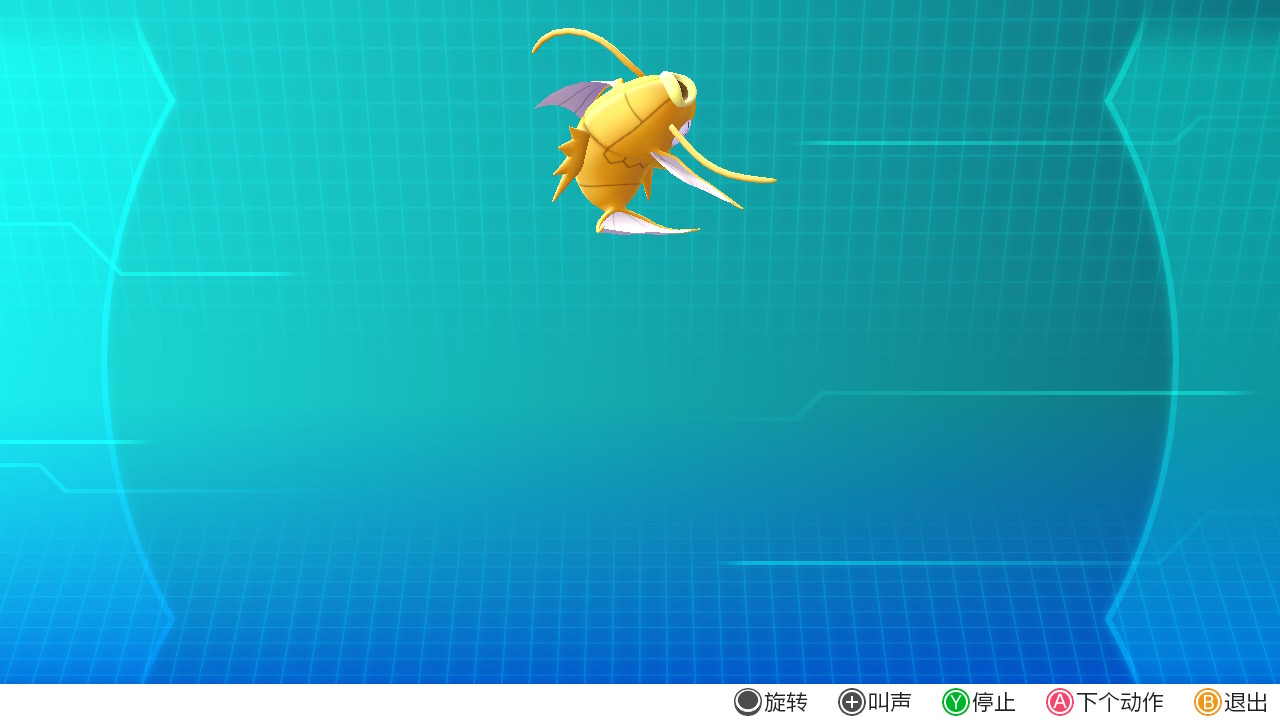Golden: (514, 18, 783, 256)
